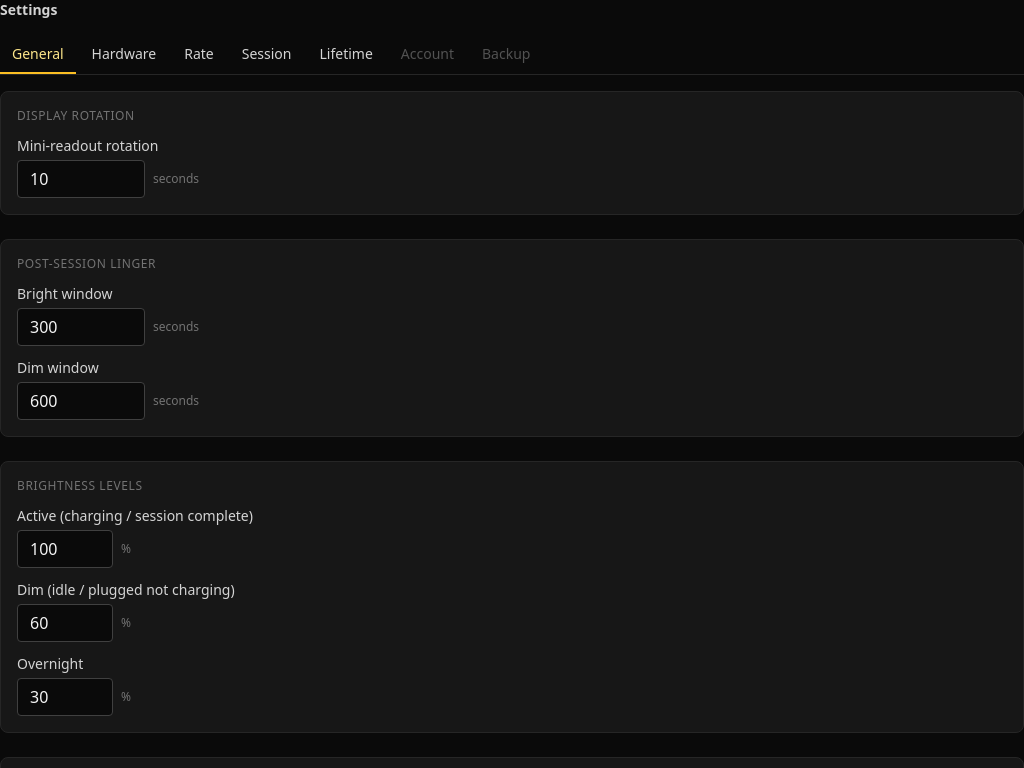
AdminSettings › Lifetime change shows the confirm modal before PATCHing
This screenshot has width=1024, height=768.
Click the button "Lifetime" at [346, 55], box [308,36,385,74]
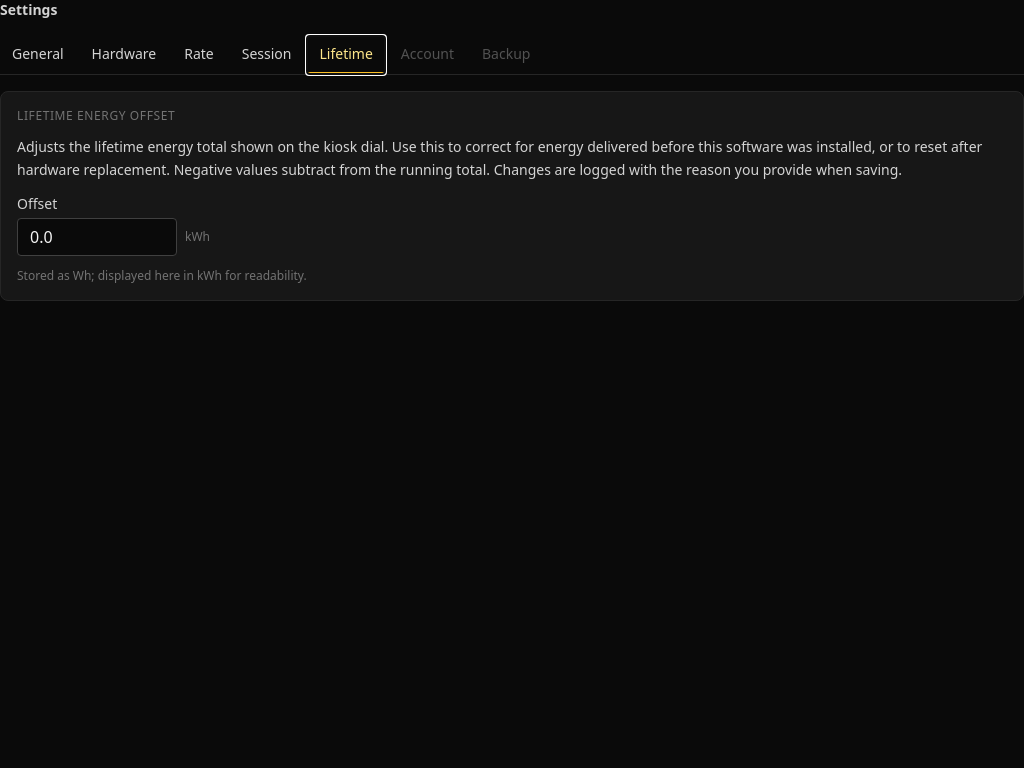
Replace the text in the field named "lifetime offset in kwh" with "0.5" at [97, 236], box [17,218,177,256]
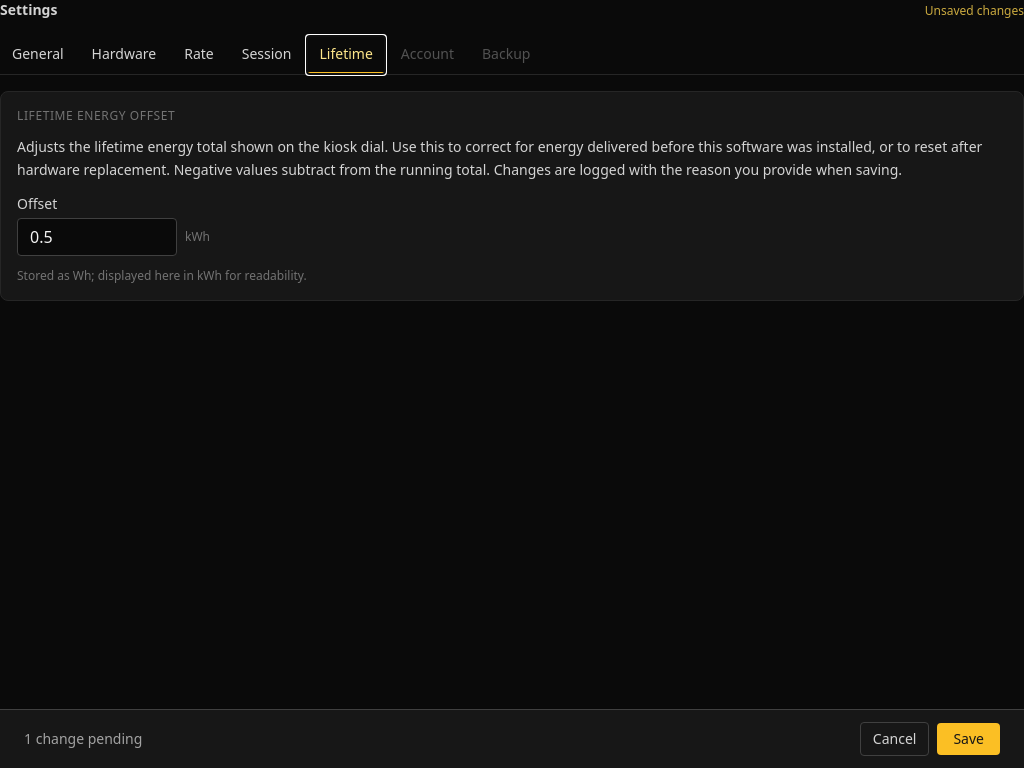
Click the button "Save" at [969, 739], box [937,723,1000,755]
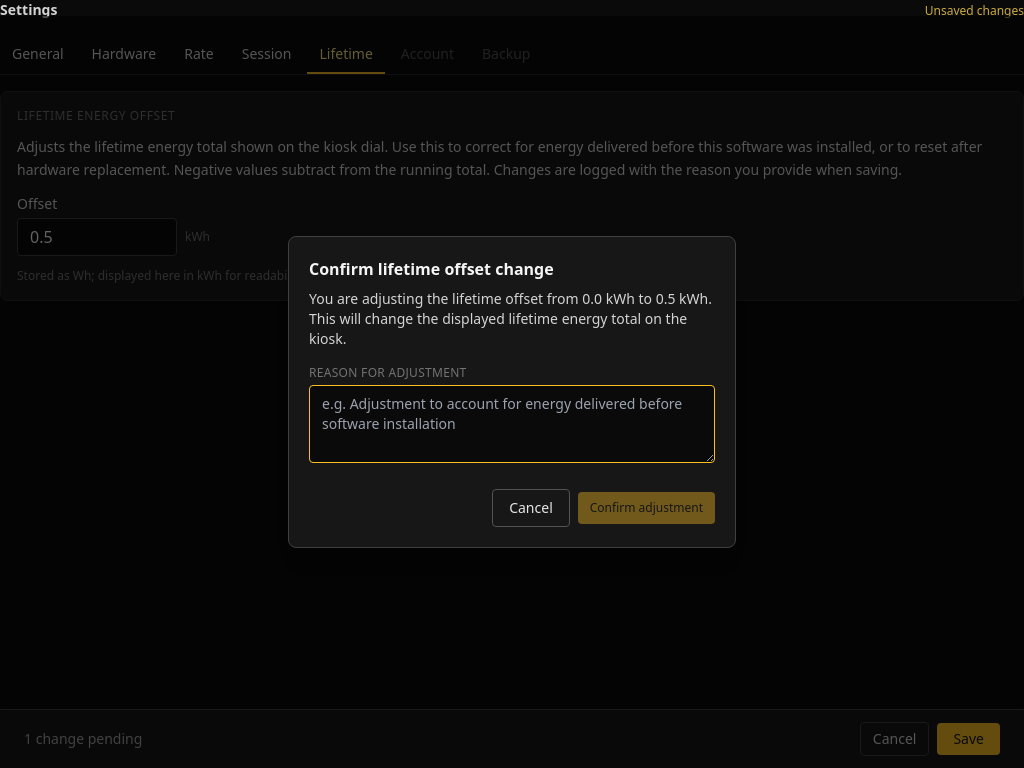
Check: the dialog "Confirm lifetime offset change" is shown
Check: the button "Confirm adjustment" is disabled, box [578,492,715,524]
